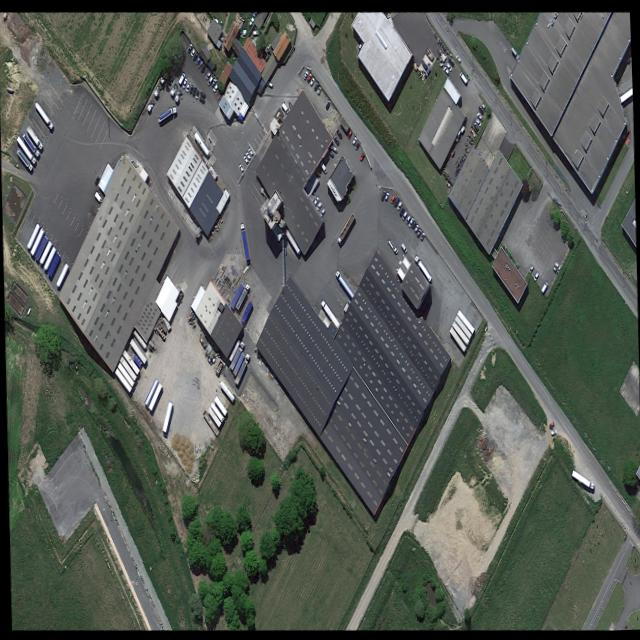large-vehicle: (335, 209, 355, 244), (333, 266, 354, 299), (319, 297, 340, 329), (15, 134, 35, 164), (412, 252, 431, 282), (33, 100, 52, 127), (570, 467, 593, 489), (233, 351, 248, 384), (201, 408, 218, 435), (25, 123, 42, 150), (228, 339, 243, 369), (128, 337, 145, 363), (21, 130, 38, 156), (121, 349, 138, 374), (116, 361, 133, 386), (113, 367, 130, 392), (147, 380, 161, 410), (143, 376, 157, 406), (118, 355, 135, 379), (217, 378, 234, 402), (234, 282, 248, 310), (29, 227, 43, 254), (156, 104, 177, 122), (160, 398, 171, 432), (15, 147, 31, 170), (229, 281, 242, 308), (46, 251, 59, 277), (239, 222, 248, 258), (55, 261, 67, 287), (34, 234, 46, 260), (26, 222, 38, 248), (38, 239, 50, 264), (209, 400, 223, 421), (42, 246, 54, 270), (206, 406, 220, 426), (232, 351, 243, 375), (385, 235, 398, 255), (213, 395, 226, 415), (240, 300, 251, 322), (151, 79, 162, 98), (172, 86, 182, 103), (144, 96, 154, 112), (168, 80, 177, 97), (177, 70, 184, 84), (206, 74, 212, 85)
small-vehicle: (457, 69, 467, 83), (318, 159, 327, 174), (539, 278, 548, 292), (391, 194, 399, 209), (317, 204, 325, 218), (314, 198, 322, 211), (399, 240, 407, 253), (331, 133, 339, 146), (388, 191, 395, 205), (550, 263, 558, 275), (243, 149, 251, 161), (280, 100, 288, 112), (334, 127, 342, 139), (441, 64, 449, 76), (446, 55, 454, 67), (414, 226, 421, 239), (198, 61, 205, 74), (471, 119, 478, 132), (246, 145, 253, 157), (180, 76, 186, 90), (553, 259, 560, 271), (193, 54, 200, 66), (475, 109, 482, 121), (196, 57, 203, 69), (190, 84, 196, 98), (397, 205, 404, 217), (197, 94, 205, 104), (193, 87, 199, 100), (324, 97, 330, 110), (241, 153, 248, 164), (211, 81, 218, 92), (326, 147, 333, 158), (476, 103, 483, 114), (444, 60, 451, 71), (418, 229, 424, 241), (204, 69, 210, 81), (191, 50, 197, 62), (305, 70, 311, 82), (346, 127, 352, 139), (189, 46, 195, 58), (532, 269, 538, 281), (407, 215, 413, 227), (400, 208, 406, 220), (379, 188, 385, 200), (187, 82, 192, 96), (329, 142, 336, 152), (184, 79, 189, 93), (93, 174, 99, 185), (412, 222, 418, 233), (237, 161, 243, 172), (209, 76, 215, 87), (312, 80, 318, 91), (353, 139, 359, 150), (454, 52, 460, 63), (312, 194, 318, 205), (186, 42, 192, 53), (527, 263, 533, 274), (404, 212, 410, 223), (198, 89, 205, 98), (308, 75, 314, 85), (350, 134, 356, 144), (474, 116, 480, 126), (480, 101, 486, 111), (547, 419, 553, 429), (395, 199, 401, 209), (265, 79, 272, 87), (549, 426, 556, 434), (410, 218, 415, 229), (383, 189, 388, 200), (302, 69, 307, 79), (315, 84, 320, 94)
